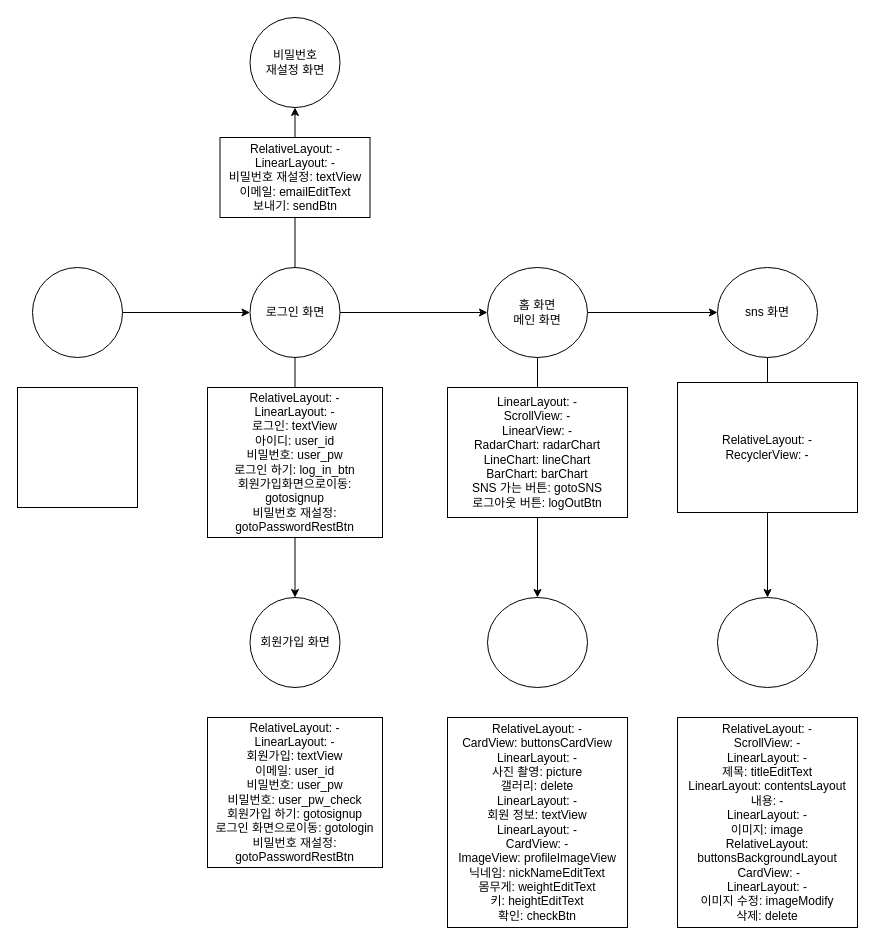
The diagram is 875 pixels wide and 945 high, and some of its shapes have lost their labels. The shapes that lost their labels are listed below. From the top down, each one's box as (x1, y1, x2, y2) in pixels, then its label:
(32, 266, 122, 358): 스플래시 화면
(16, 386, 138, 508): LinearLayout: lin_lay ImageView: splash
(486, 596, 588, 688): 회원 정보 화면
(716, 596, 818, 688): 게시글 작성
